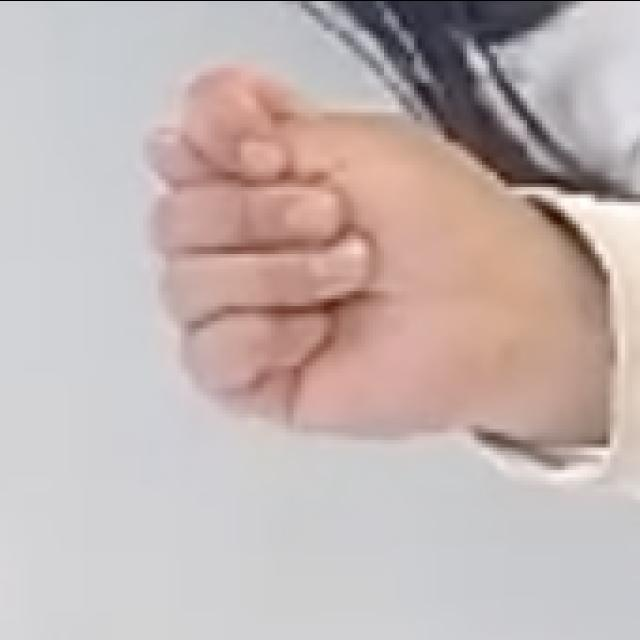T: (117, 56, 561, 472)
